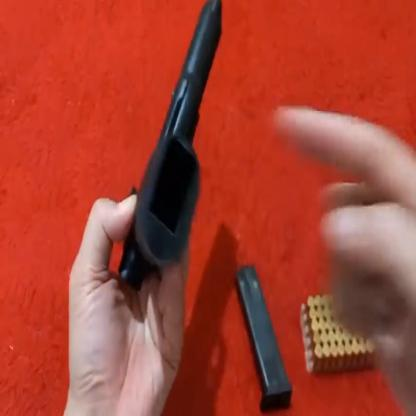handgun: (118, 0, 229, 296)
